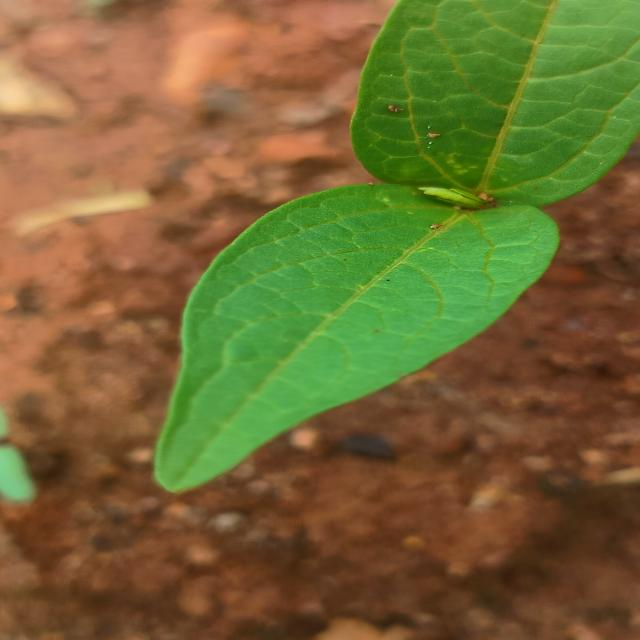Black gram_healthy: (159, 181, 558, 498)
